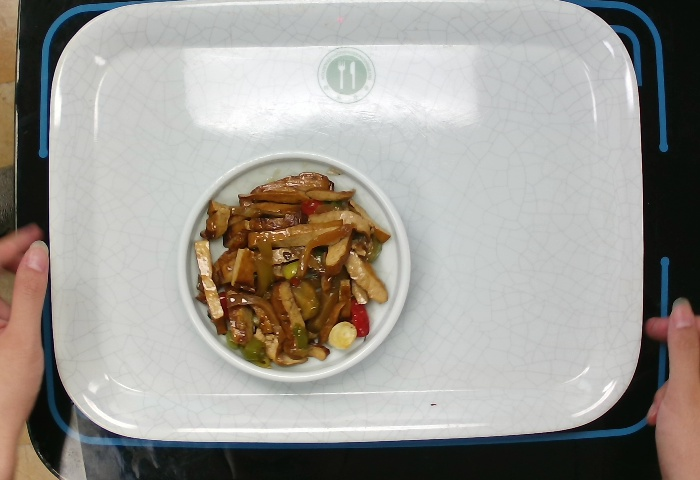JYsf-Xiao_Yuan_Pan: (175, 144, 414, 383)
